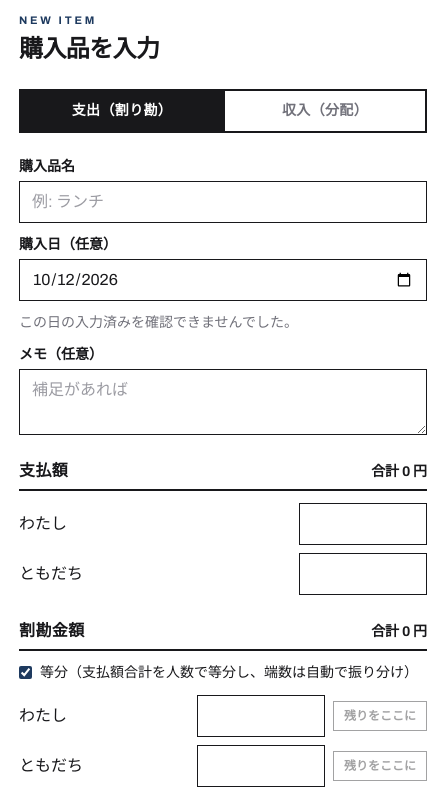
Test: 割勘が支払額を超過しているとき「残りをここに」は無効
The image size is (446, 798).
Note: 等分（デフォルト ON）を OFF にし、割勘を手入力で超過させる。
Click the checkbox at (26, 672), box [19,666,32,679]
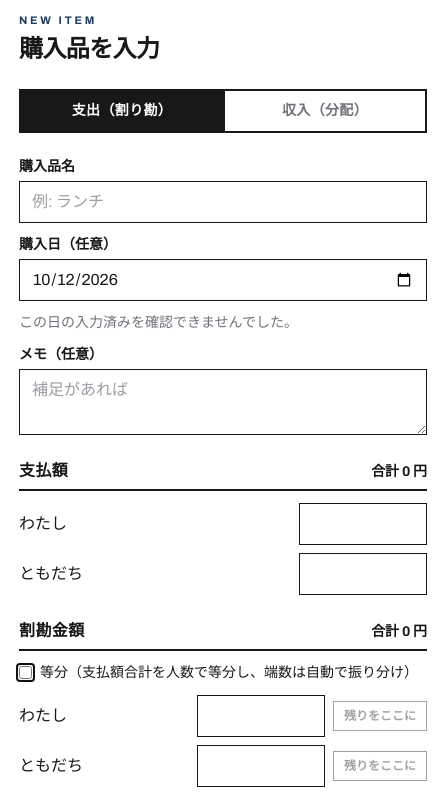
Type "500" into the number field named "わたし の支払額" at (363, 524), box [299,502,427,544]
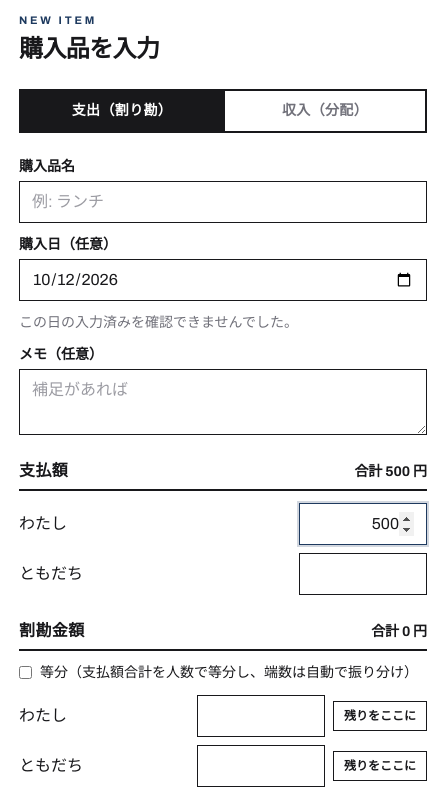
Type "900" into the number field named "わたし の割勘金額" at (261, 716), box [197,694,325,736]
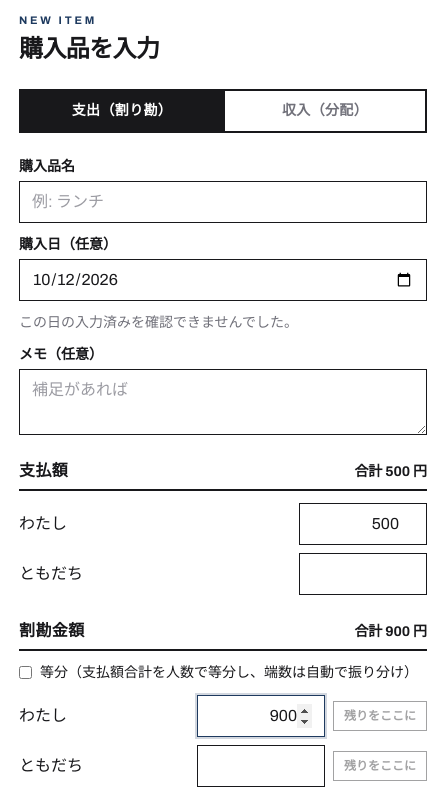
Now the 1st button "残りをここに" is disabled, box [333,700,427,730]
